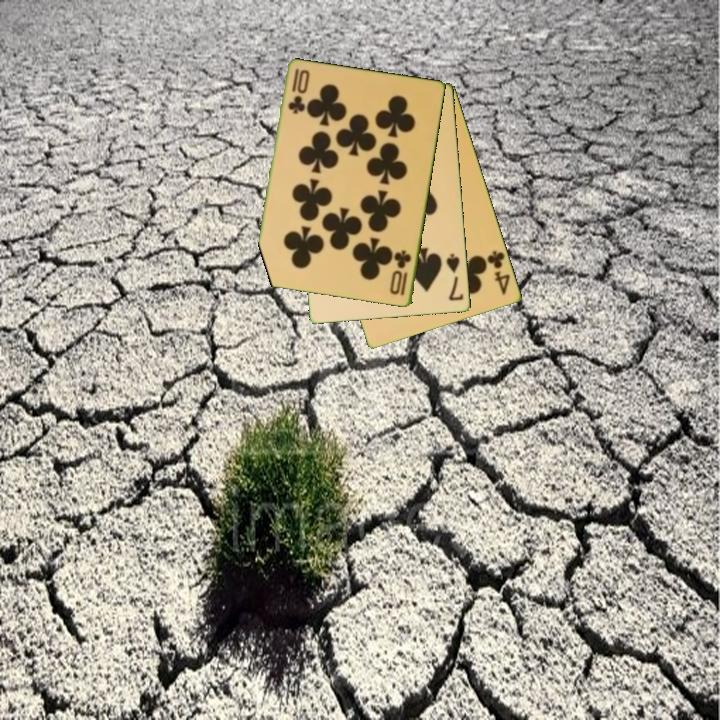10c: (387, 247, 415, 299), (285, 65, 306, 117)
4c: (484, 247, 513, 298)
7s: (443, 250, 467, 304)
